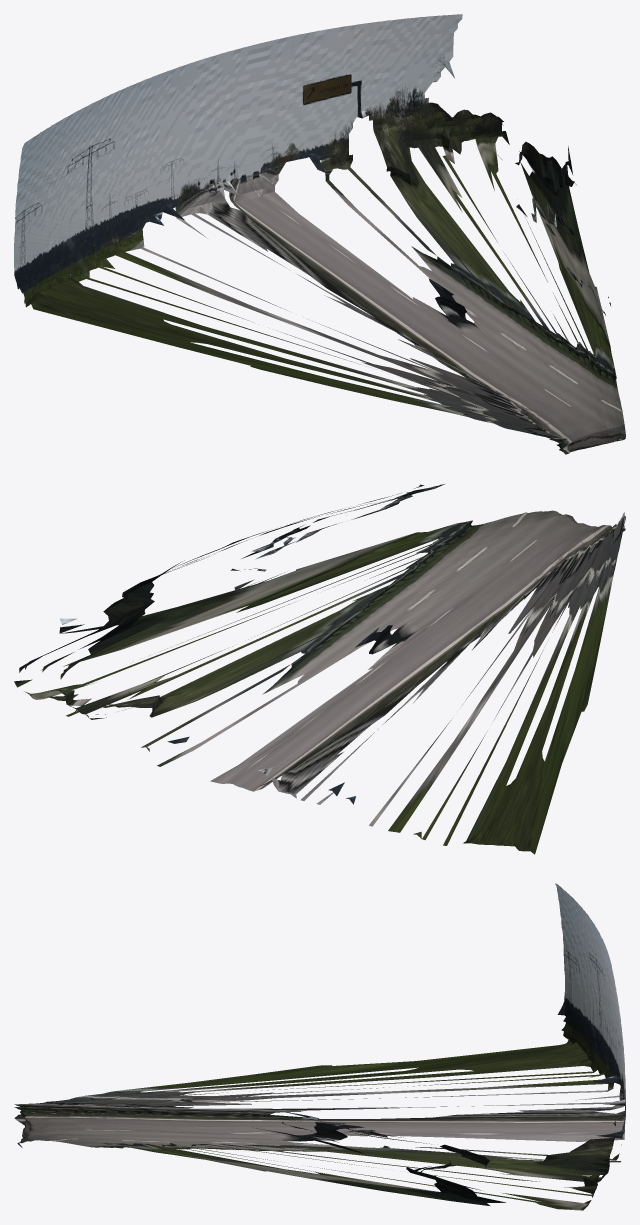
3 views of the same model, one above another, from view 1: azimuth 30°, elevation 25°; view 2: azimuth 150°, elevation 25°; view 3: azimuth 270°, elevation 25° (orthographic). The views are drawn at different scales.
Parts seen in each view (by area): view 1: defaultobject; view 2: defaultobject; view 3: defaultobject.
Boxes of the visible parts, x1,y1,x2,y2 form: defaultobject: (14, 14, 625, 454); defaultobject: (14, 484, 625, 854); defaultobject: (14, 883, 625, 1210).
Size of the model in its own units: 39.23 by 13.25 by 44.72.
Materials: 1 (1 with a texture image).
